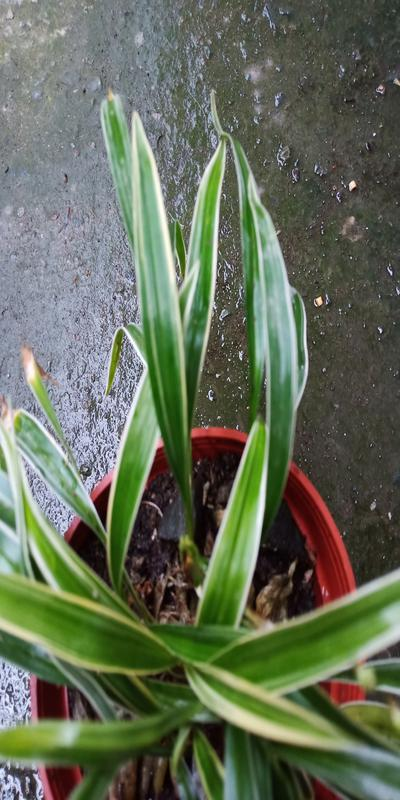Yellow and green leaf: (27, 249, 370, 778)
